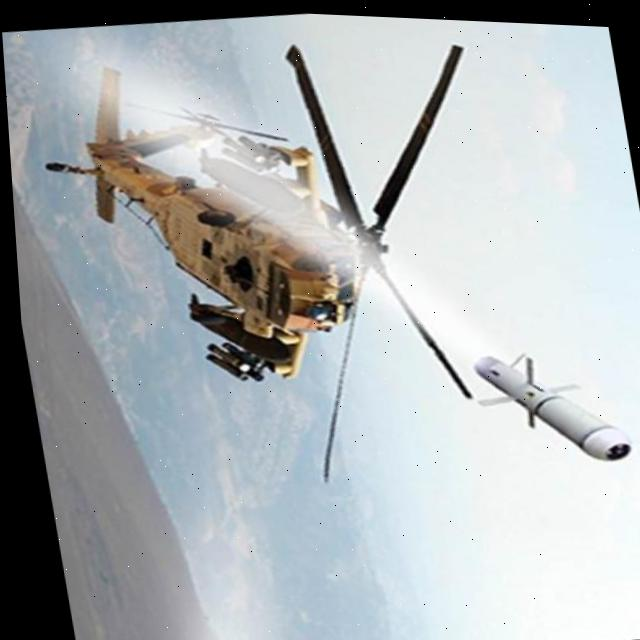missile: (454, 328, 633, 477)
